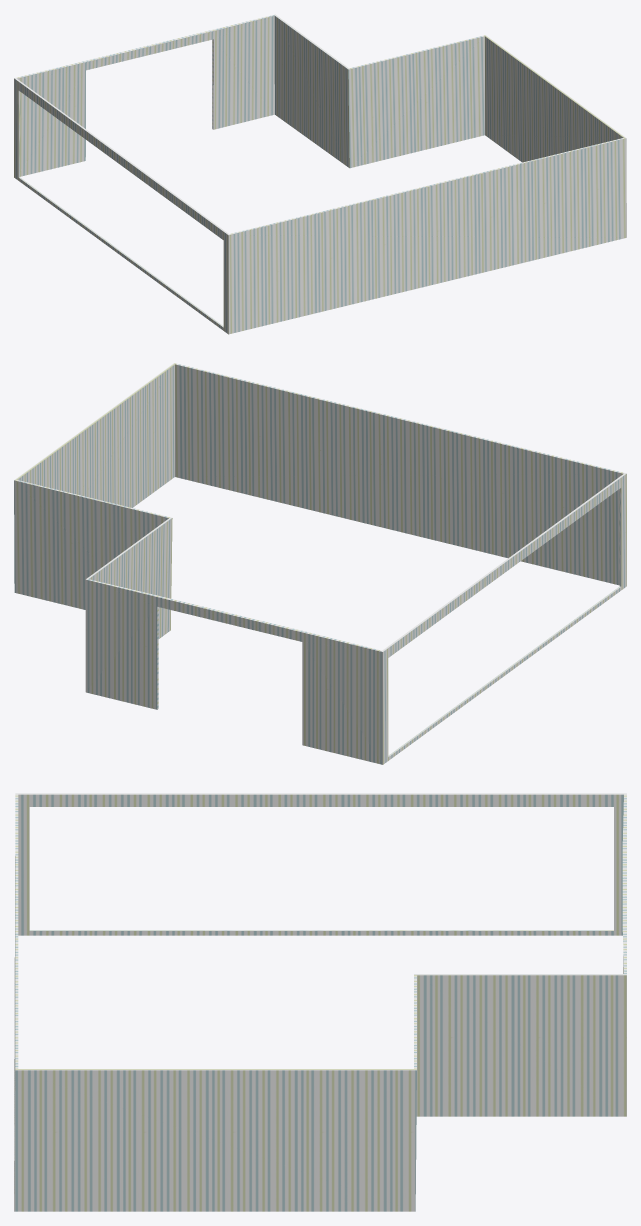
The model's file is aws_RetailShopWall_01_visual.DAE.
3 views of the same model, one above another, from view 1: azimuth 30°, elevation 25°; view 2: azimuth 150°, elevation 25°; view 3: azimuth 270°, elevation 25° (orthographic). The views are drawn at different scales.
Visible parts, largest first — view 1: aws_RetailShopWall_01_visual; view 2: aws_RetailShopWall_01_visual; view 3: aws_RetailShopWall_01_visual.
Part boxes in pixels (left/top/right/bottom): aws_RetailShopWall_01_visual: left=14, top=14, right=626, bottom=334; aws_RetailShopWall_01_visual: left=14, top=363, right=626, bottom=764; aws_RetailShopWall_01_visual: left=14, top=793, right=626, bottom=1211.
Size of the model in its own units: 1560 by 1460 by 372.
1 material, 1 textured.
